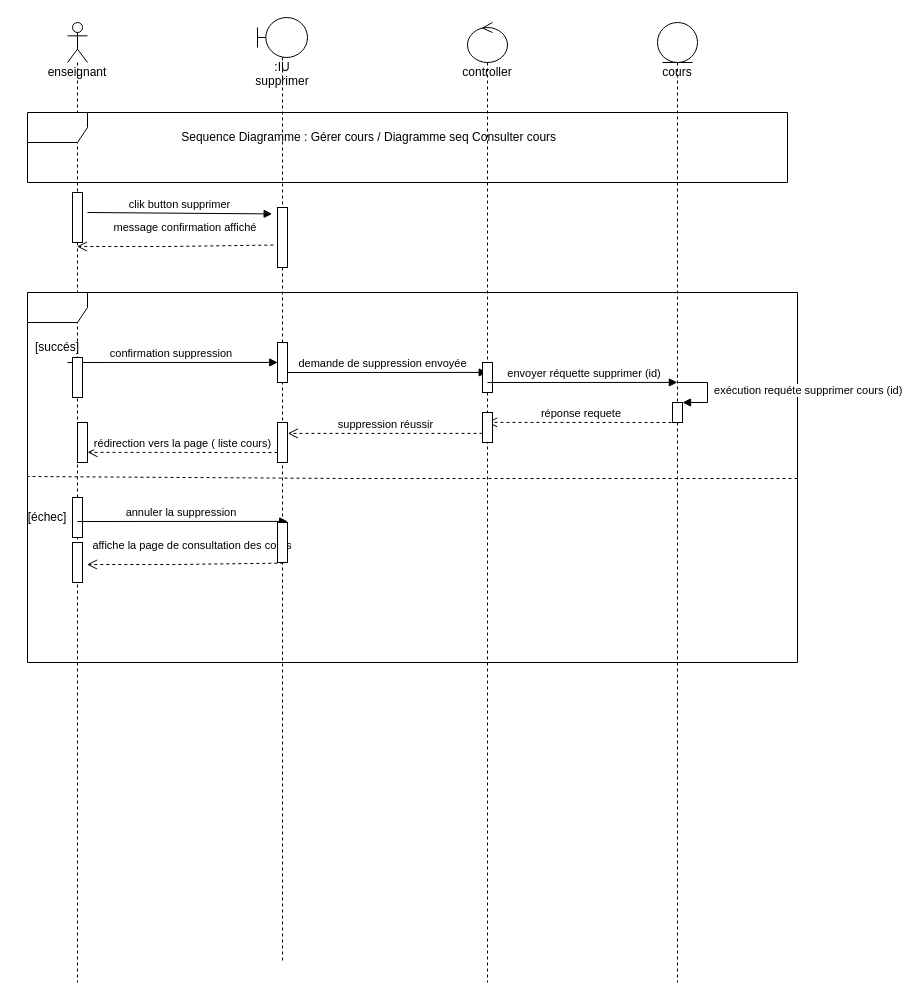
The diagram is 919 pixels wide and 1000 high, and some of its shapes have lost their labels. Each missing label, with the box of its shape:
frame: (26, 292, 798, 662)
Ref: (26, 112, 788, 182)
